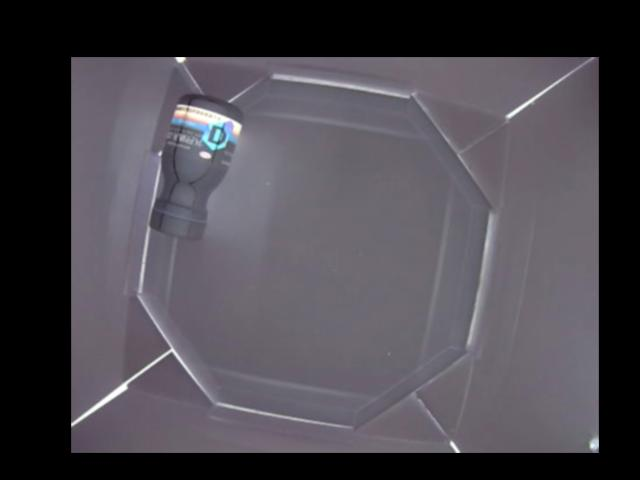Bottle: (147, 94, 243, 235)
